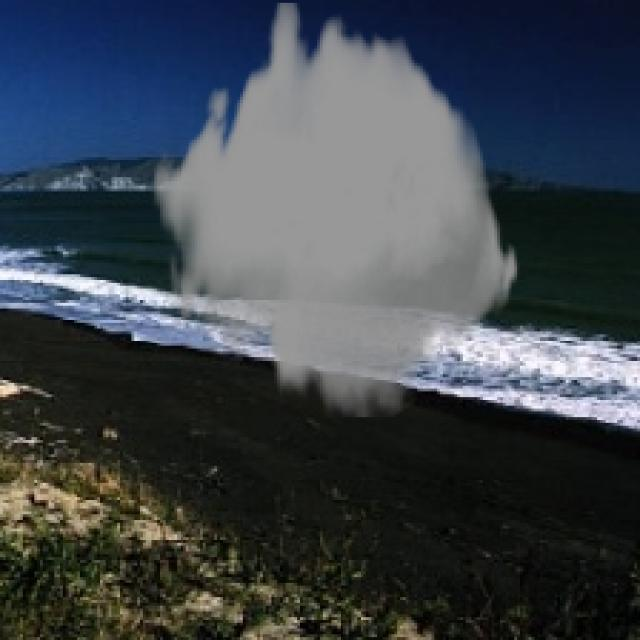Smoke: (151, 2, 520, 418)
